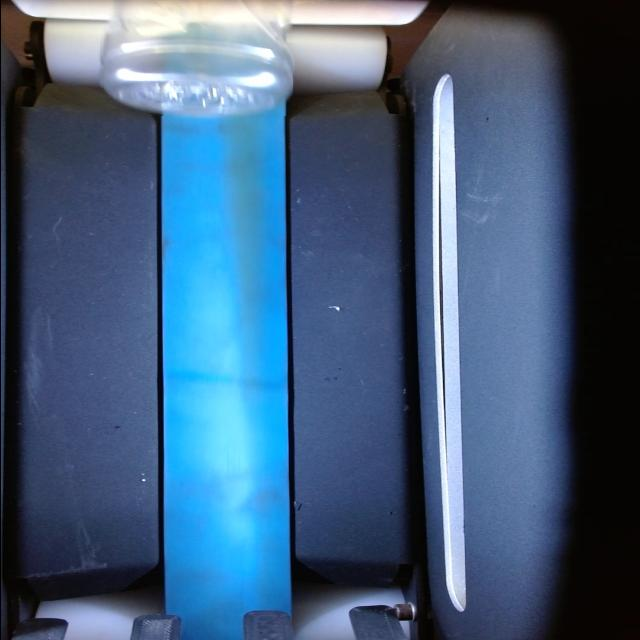bottom: (101, 0, 291, 116)
